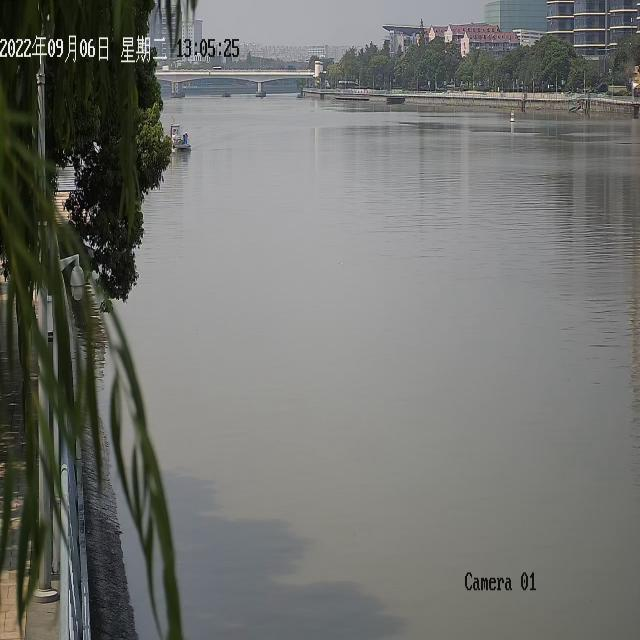ship: (168, 113, 190, 150), (220, 89, 230, 96)
